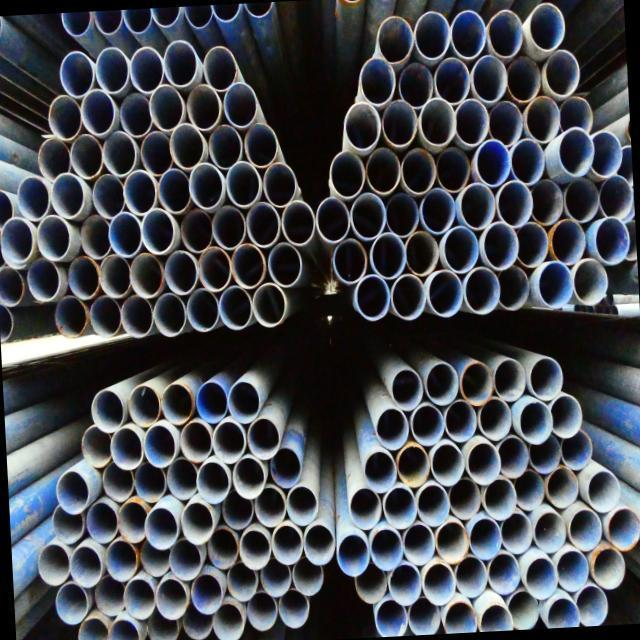pipe: (413, 10, 452, 62), (486, 6, 524, 58), (529, 1, 567, 52), (377, 14, 415, 64), (450, 10, 488, 60), (420, 98, 458, 148), (344, 102, 382, 150), (496, 180, 534, 228), (140, 206, 176, 256), (538, 262, 574, 312), (370, 230, 407, 278), (496, 264, 533, 312), (558, 128, 594, 177), (432, 58, 472, 102), (596, 217, 631, 267), (94, 46, 130, 94), (36, 214, 72, 262), (454, 98, 490, 146), (574, 260, 610, 308), (398, 62, 436, 107), (250, 482, 287, 528), (464, 268, 501, 314), (598, 176, 635, 222), (383, 99, 419, 146), (104, 532, 139, 580), (351, 192, 386, 240), (508, 138, 546, 182), (564, 173, 601, 218), (106, 210, 142, 256), (245, 200, 281, 246), (472, 56, 508, 102), (359, 58, 395, 104), (365, 146, 401, 192), (385, 191, 421, 237), (552, 219, 588, 265), (102, 129, 137, 176), (282, 200, 316, 248), (546, 49, 580, 97), (0, 218, 37, 262), (400, 148, 437, 192), (162, 42, 198, 87), (59, 50, 94, 96), (81, 423, 115, 470), (202, 42, 236, 89), (126, 382, 162, 426), (194, 458, 230, 502), (128, 47, 164, 91), (150, 85, 186, 129), (268, 242, 304, 286), (506, 56, 542, 100), (392, 276, 428, 320), (421, 187, 456, 232), (430, 270, 464, 316), (484, 222, 518, 268), (530, 177, 564, 223), (51, 502, 88, 544), (35, 542, 72, 584), (210, 204, 246, 247), (524, 95, 560, 138), (314, 197, 350, 240), (332, 238, 368, 281), (69, 542, 104, 586), (189, 165, 224, 209), (477, 140, 512, 184), (590, 130, 622, 178), (91, 389, 125, 434), (160, 378, 194, 423), (144, 506, 180, 548), (114, 500, 150, 542), (178, 210, 214, 252), (152, 293, 188, 335), (348, 488, 384, 530), (410, 402, 446, 444), (488, 100, 524, 142), (404, 232, 440, 274), (101, 459, 136, 502), (70, 133, 105, 176), (524, 557, 559, 600), (435, 147, 470, 190), (461, 185, 496, 228), (194, 378, 228, 422), (168, 538, 202, 582), (224, 83, 258, 127), (188, 84, 222, 128), (550, 394, 584, 438), (444, 398, 478, 442), (530, 356, 564, 400), (332, 152, 366, 196), (358, 276, 392, 320), (245, 121, 278, 166), (607, 507, 640, 552), (122, 170, 158, 211), (56, 469, 88, 515), (142, 426, 177, 468), (225, 560, 260, 602), (119, 294, 154, 336), (587, 470, 622, 512), (396, 444, 431, 486), (444, 228, 479, 270), (48, 96, 82, 139), (226, 163, 260, 206), (208, 122, 241, 166), (82, 89, 114, 134), (225, 378, 260, 419), (197, 249, 232, 290), (375, 406, 410, 447), (247, 417, 281, 459), (232, 456, 266, 498), (180, 502, 214, 544), (158, 170, 192, 212), (50, 174, 84, 216), (186, 288, 220, 330), (28, 260, 62, 302), (592, 546, 626, 588), (494, 358, 528, 400), (516, 224, 550, 266), (246, 591, 279, 634), (89, 295, 122, 338), (262, 160, 294, 204), (84, 501, 119, 541), (54, 584, 89, 624), (118, 94, 153, 134), (110, 427, 144, 468), (291, 555, 325, 596), (38, 136, 72, 177), (130, 255, 164, 296), (568, 510, 602, 551), (338, 536, 372, 577), (483, 477, 517, 518), (520, 401, 554, 442), (431, 445, 465, 486), (390, 368, 424, 409), (424, 363, 458, 404), (238, 528, 271, 570), (304, 524, 337, 566), (170, 124, 203, 166), (92, 175, 125, 217), (16, 177, 49, 219), (220, 290, 253, 332), (78, 215, 110, 258), (558, 96, 594, 134), (533, 512, 568, 551), (495, 436, 530, 475), (363, 451, 398, 490), (252, 284, 286, 324), (374, 598, 408, 638), (208, 527, 240, 569), (272, 522, 304, 564), (100, 256, 132, 298), (488, 552, 520, 594), (466, 444, 501, 482), (212, 422, 246, 461), (190, 575, 223, 615), (231, 247, 264, 287), (164, 252, 197, 292), (500, 513, 532, 554), (164, 458, 198, 496), (403, 526, 437, 564), (384, 488, 418, 526), (546, 466, 580, 504), (560, 431, 594, 469), (134, 461, 167, 500), (469, 518, 502, 557), (461, 363, 494, 402), (278, 590, 310, 630), (56, 296, 88, 336), (577, 586, 609, 626), (408, 596, 440, 636), (424, 563, 456, 603), (480, 398, 512, 438), (96, 574, 126, 616), (213, 603, 247, 640), (448, 479, 482, 516), (528, 434, 562, 471), (507, 592, 540, 630), (371, 530, 404, 568), (418, 485, 451, 523), (260, 558, 292, 597), (125, 580, 156, 620), (141, 132, 172, 172), (69, 258, 100, 298), (438, 522, 469, 562), (558, 549, 588, 590), (156, 580, 188, 618), (514, 470, 546, 508), (391, 565, 422, 604), (269, 449, 302, 485), (455, 557, 487, 594), (224, 487, 255, 525), (288, 483, 318, 522), (180, 606, 215, 639), (180, 422, 212, 458), (140, 535, 170, 573), (443, 602, 478, 634), (356, 566, 388, 601), (478, 603, 514, 632), (546, 596, 578, 628), (147, 612, 179, 640), (107, 616, 140, 640), (78, 617, 109, 640)
